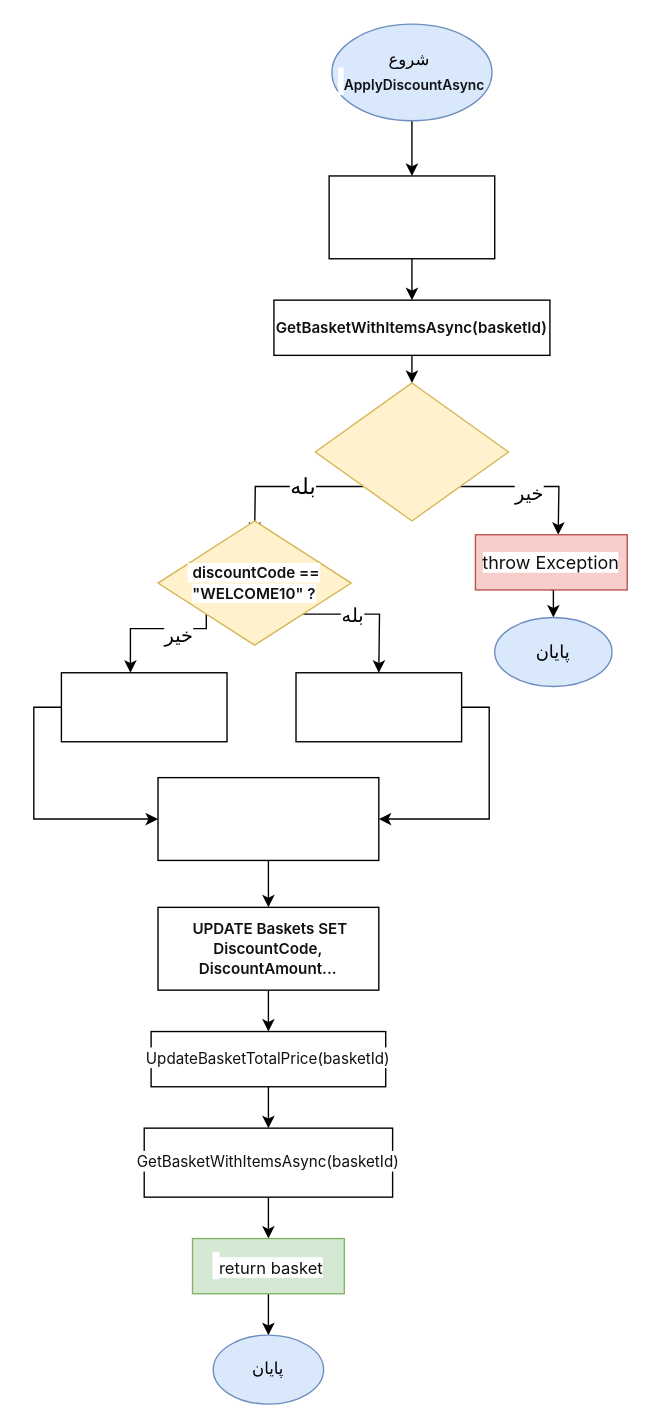
Some shapes in this 651 by 1428 pixel diagram are drawn without their labels. The box of each missing label's shape, as (x1, y1, x2, y2) in pixels:
discountAmount = SubTotal * discountPercentage: (157, 776, 379, 860)
discountPercentage = 0: (60, 671, 227, 742)
discountPercentage = 0.10: (295, 671, 462, 742)
آیا سبد خرید وجود دارد؟: (314, 382, 509, 521)
دریافت ورودی ها basketId, discountCode: (328, 175, 495, 259)
